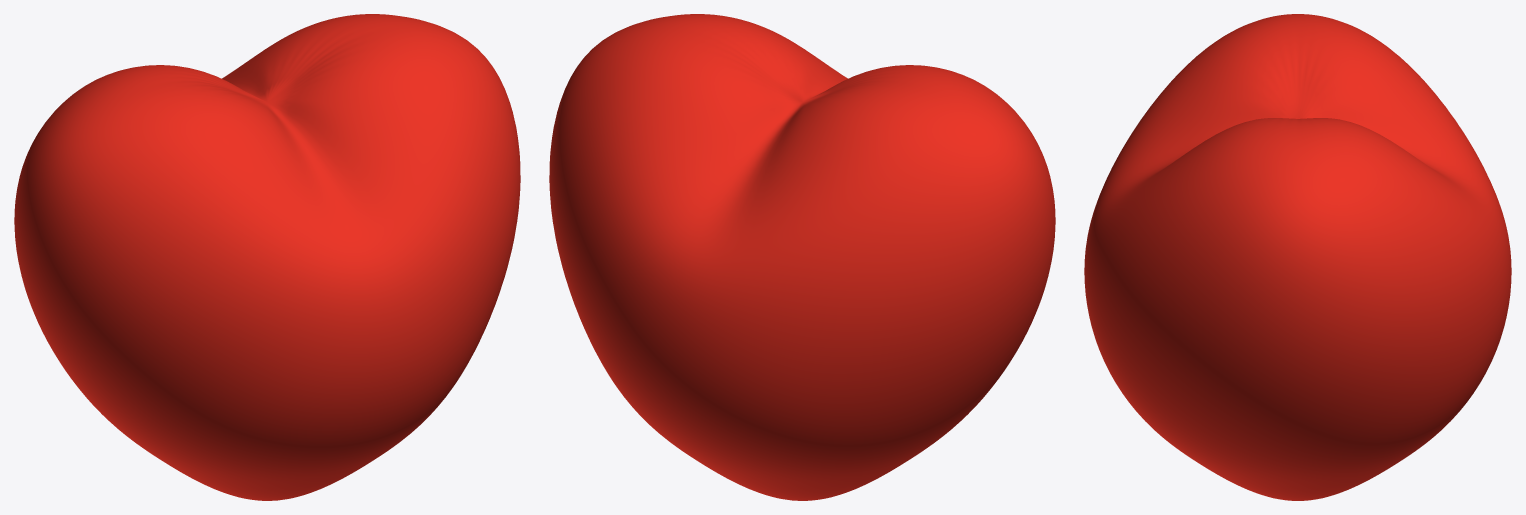
The model's file is Heart model .fbx.
3 renders of one model, left to right at view 1: azimuth 30°, elevation 25°; view 2: azimuth 150°, elevation 25°; view 3: azimuth 270°, elevation 25°, orthographic. The views are drawn at different scales.
Visible parts, largest first — view 1: Heart; view 2: Heart; view 3: Heart.
Boxes of the visible parts, x1,y1,x2,y2 form: Heart: (14, 14, 520, 500); Heart: (549, 14, 1055, 500); Heart: (1084, 14, 1511, 500).
Bounding box in the file's own units: 235 × 210 × 197.
